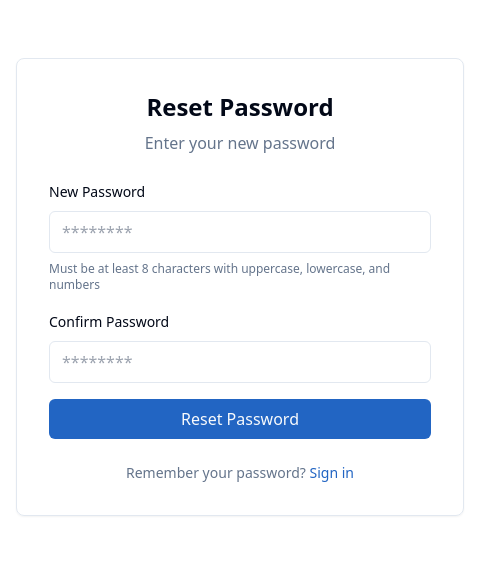
Test: ResetPassword Page › should display success message after successful reset
Type "NewPassword123" into the password field labelled "New Password" at (240, 232), box [49,211,431,253]
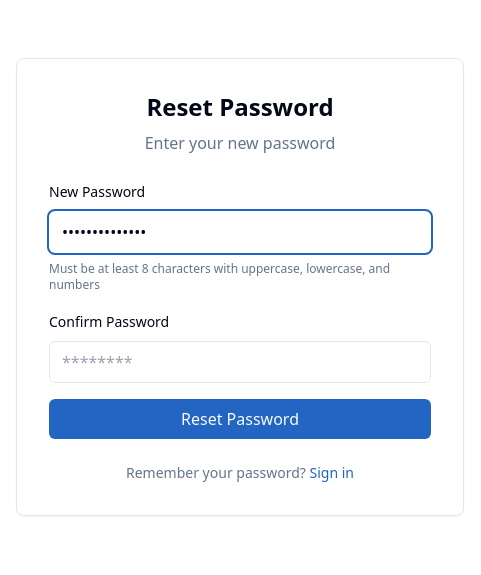
Type "NewPassword123" into the password field labelled "Confirm Password" at (240, 362), box [49,341,431,383]
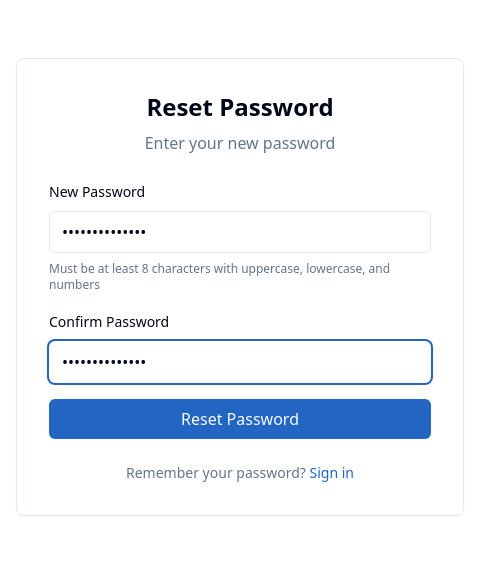
Click the button "Reset Password" at (240, 419), box [49,399,431,439]
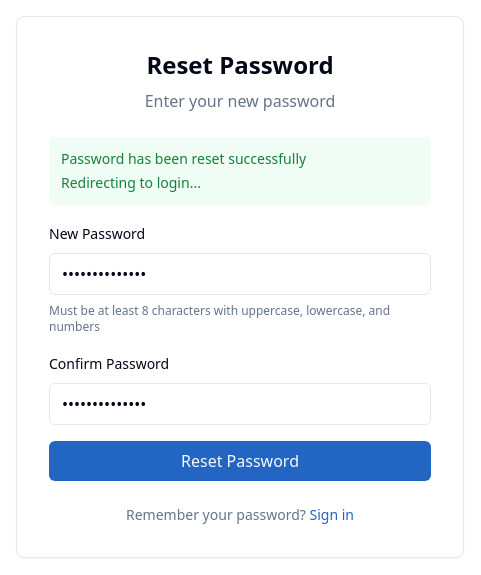
Check: the text "Password has been reset successfully Redirecting to login..." is shown, box [49,137,431,205]
